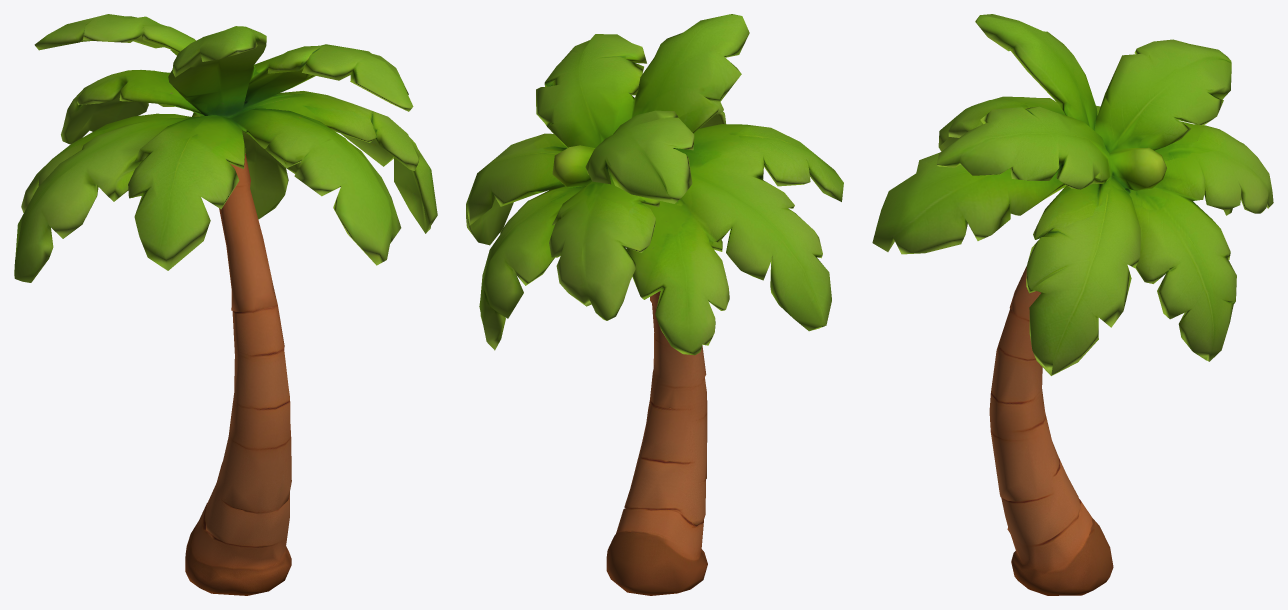
File: prop-palm.glb
3 renders of one model, left to right at view 1: azimuth 30°, elevation 25°; view 2: azimuth 150°, elevation 25°; view 3: azimuth 270°, elevation 25°, orthographic. The views are drawn at different scales.
Visible parts, largest first — view 1: tripo_node_85ec8d3e-bd51-4152-9d81-044b4170d7e8; view 2: tripo_node_85ec8d3e-bd51-4152-9d81-044b4170d7e8; view 3: tripo_node_85ec8d3e-bd51-4152-9d81-044b4170d7e8.
Part boxes in pixels (x1,y1,x2,y2): tripo_node_85ec8d3e-bd51-4152-9d81-044b4170d7e8: [14, 14, 437, 595]; tripo_node_85ec8d3e-bd51-4152-9d81-044b4170d7e8: [466, 14, 843, 595]; tripo_node_85ec8d3e-bd51-4152-9d81-044b4170d7e8: [872, 14, 1273, 595].
Size of the model in its own units: 0.696 by 0.9808 by 0.6527.
1 material, 1 textured.
